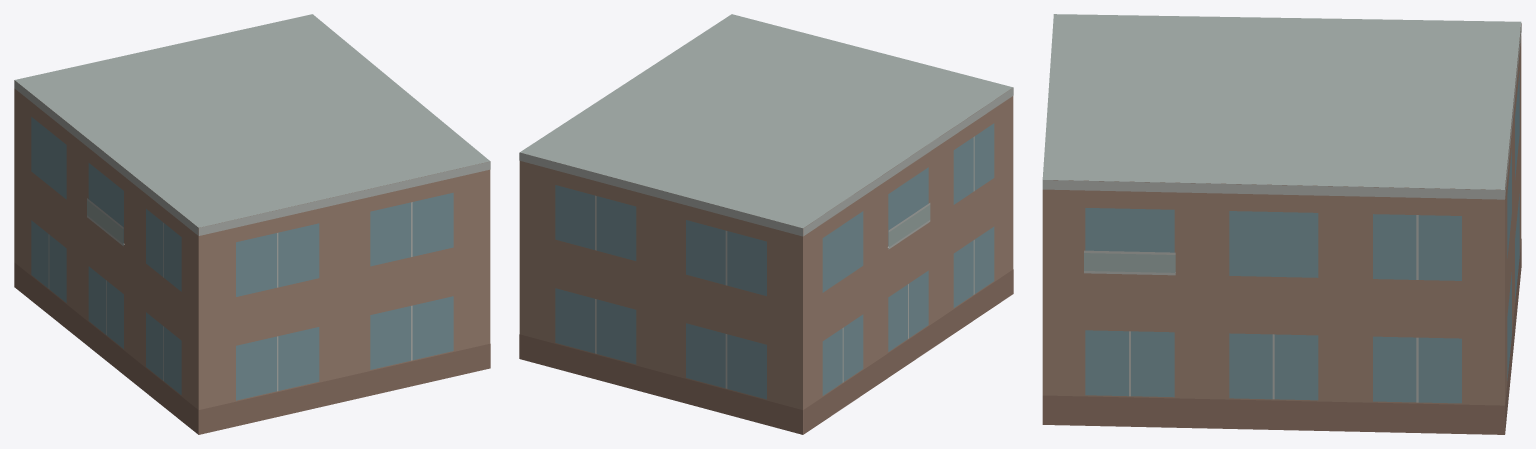
File: survey-upis-32652724.glb
3 renders of one model, left to right at view 1: azimuth 30°, elevation 25°; view 2: azimuth 150°, elevation 25°; view 3: azimuth 270°, elevation 25°, orthographic. The views are drawn at different scales.
Visible parts, largest first — view 1: survey-upis-32652724.tmp; view 2: survey-upis-32652724.tmp; view 3: survey-upis-32652724.tmp.
Boxes of the visible parts, <box> form: survey-upis-32652724.tmp: <box>14,14,490,434</box>; survey-upis-32652724.tmp: <box>519,14,1013,434</box>; survey-upis-32652724.tmp: <box>1042,14,1521,434</box>.
Size of the model in its own units: 9.4 by 6.1 by 10.82.
